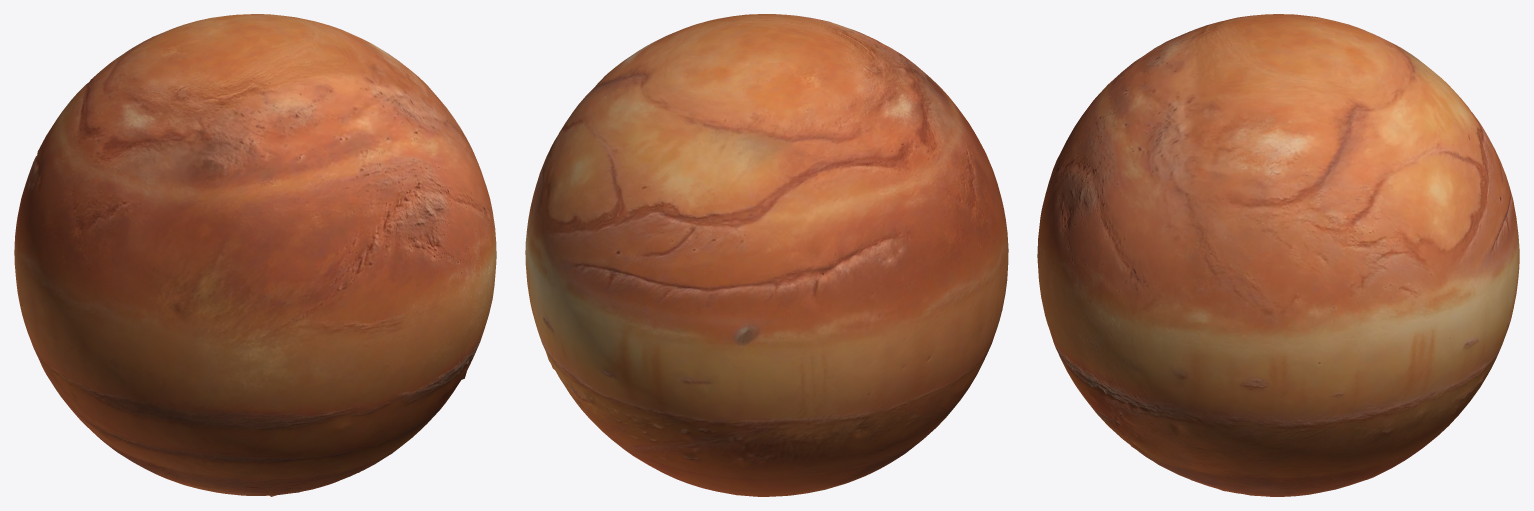
Rendered from dry_planet_2.glb.
3 views of the same model, side by side, from view 1: azimuth 30°, elevation 25°; view 2: azimuth 150°, elevation 25°; view 3: azimuth 270°, elevation 25° (orthographic).
Parts seen in each view (by area): view 1: Mesh_0.015; view 2: Mesh_0.015; view 3: Mesh_0.015.
Part boxes in pixels (<box>): Mesh_0.015: <box>14,14,496,496</box>; Mesh_0.015: <box>525,14,1008,496</box>; Mesh_0.015: <box>1037,14,1519,496</box>.
Bounding box in the file's own units: 2 × 2 × 2.
1 material, 1 textured.
